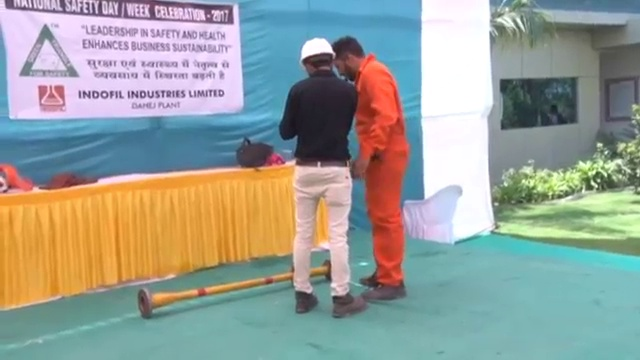helmet: (299, 36, 337, 63)
helmet_off: (330, 31, 363, 81)
helmet_on: (296, 34, 338, 79)
person: (279, 35, 370, 316), (329, 27, 408, 302)
